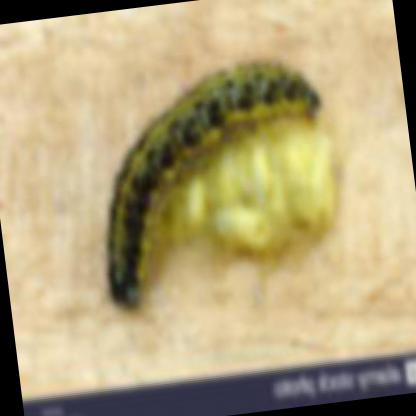pieris: (102, 62, 319, 307)
